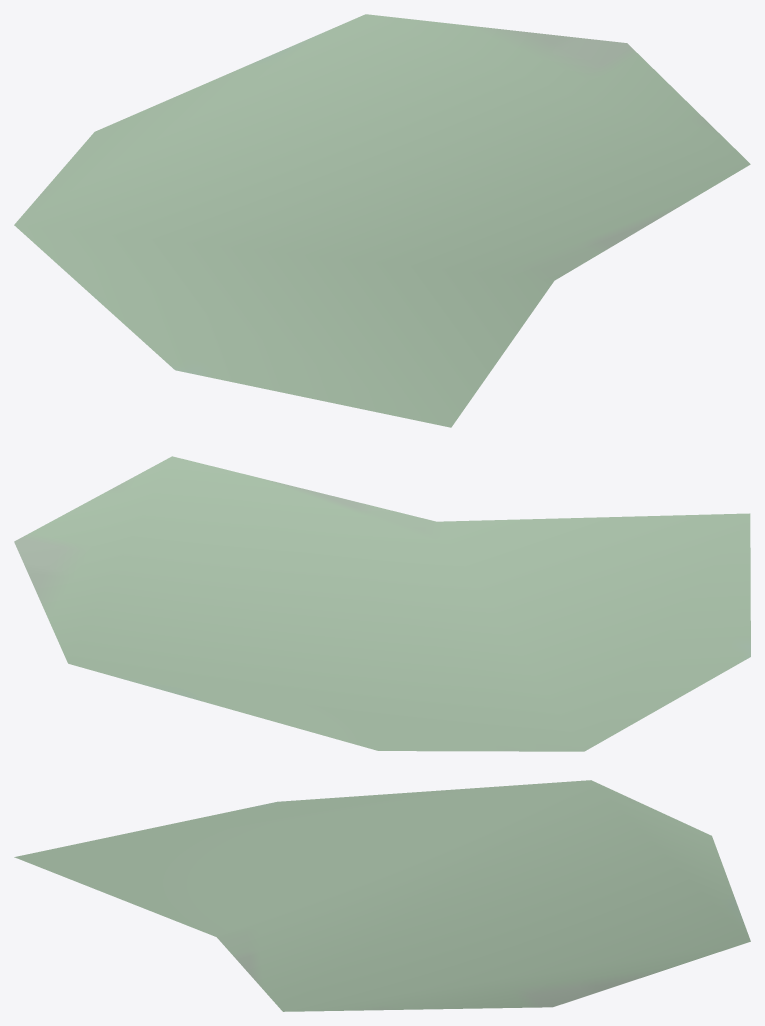
Rendered from TROLLHOLE02_HOLECAP44.fbx.
3 renders of one model, top to bottom at view 1: azimuth 30°, elevation 25°; view 2: azimuth 150°, elevation 25°; view 3: azimuth 270°, elevation 25°, orthographic. The views are drawn at different scales.
Parts seen in each view (by area): view 1: TROLLHOLE02_HOLECAP44; view 2: TROLLHOLE02_HOLECAP44; view 3: TROLLHOLE02_HOLECAP44.
Boxes of the visible parts, <box> form: TROLLHOLE02_HOLECAP44: <box>14,14,750,427</box>; TROLLHOLE02_HOLECAP44: <box>14,456,750,751</box>; TROLLHOLE02_HOLECAP44: <box>14,780,750,1011</box>.
Size of the model in its own units: 14406 by 1753 by 16134.
Materials: 1 (1 with a texture image).
